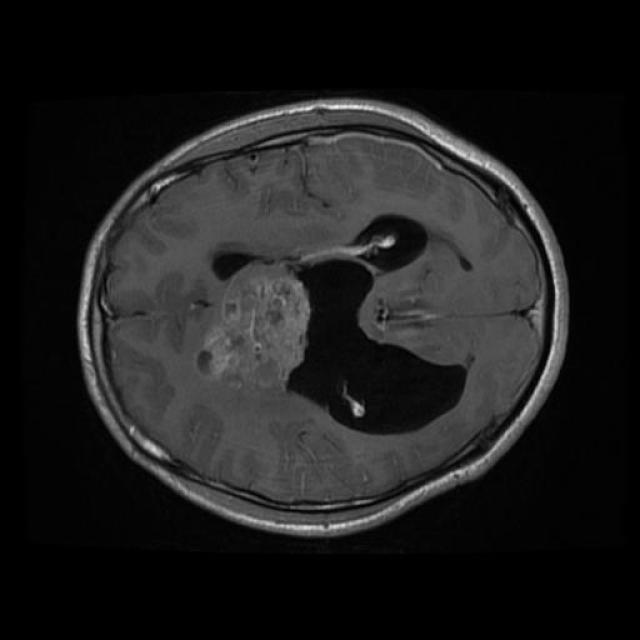Glioma: (197, 234, 466, 433)
